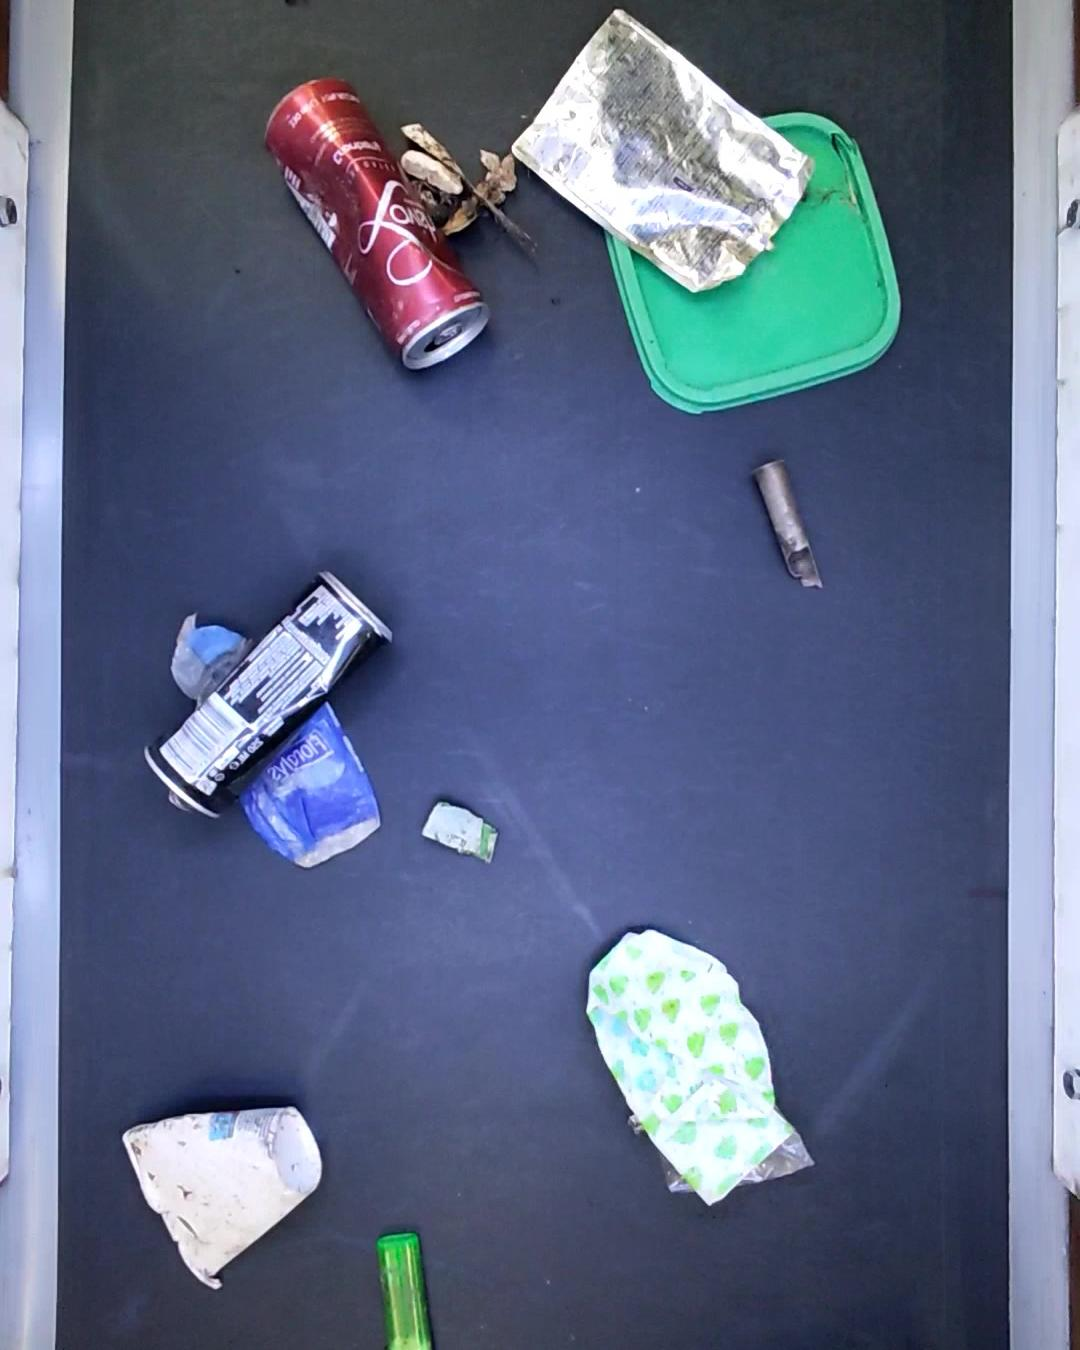Drankblikjes: (263, 71, 492, 372), (141, 568, 398, 819)
